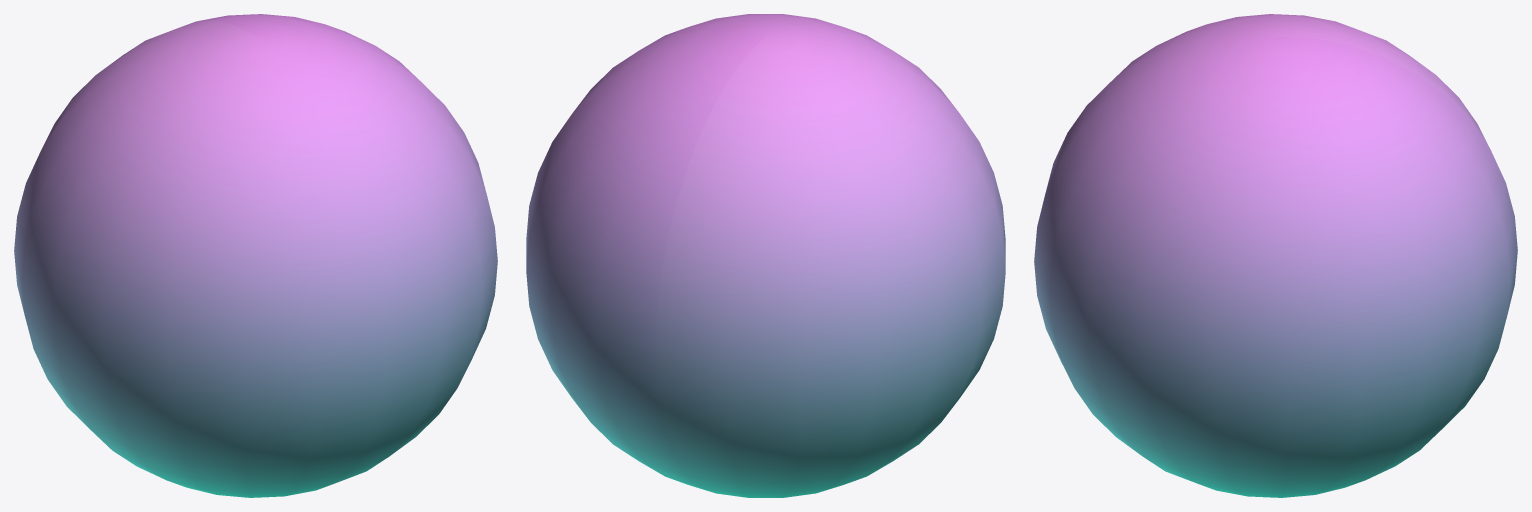
The model's file is planet6.fbx.
The picture shows the model from 3 angles, left to right: view 1: azimuth 30°, elevation 25°; view 2: azimuth 150°, elevation 25°; view 3: azimuth 270°, elevation 25°; orthographic projection.
Visible parts, largest first — view 1: planet6; view 2: planet6; view 3: planet6.
Part boxes in pixels (x1,y1,x2,y2): planet6: (14, 14, 497, 497); planet6: (526, 14, 1005, 497); planet6: (1034, 14, 1517, 497).
Bounding box in the file's own units: 54.4 × 54.48 × 54.4.
1 material, 1 textured.
